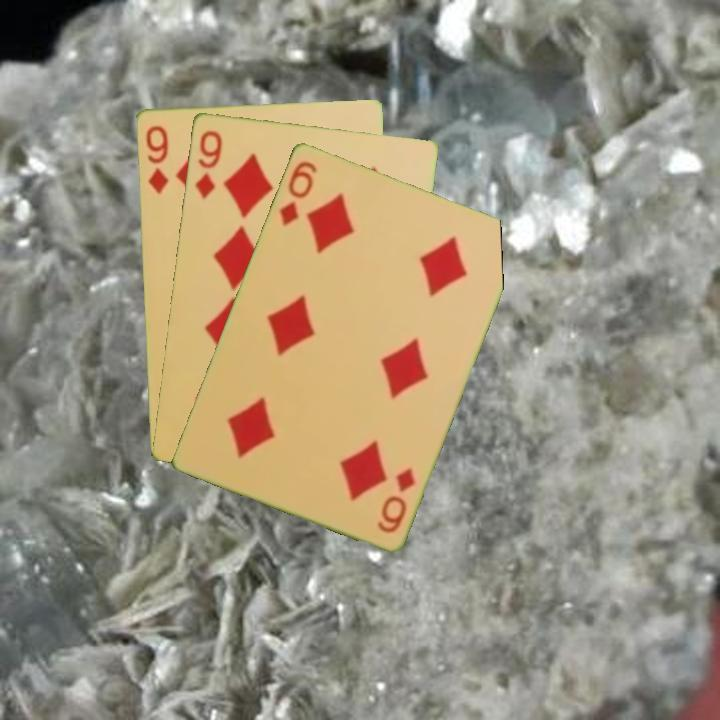6d: (373, 463, 418, 536), (275, 156, 320, 228)
9d: (191, 126, 225, 202), (142, 121, 171, 197)
